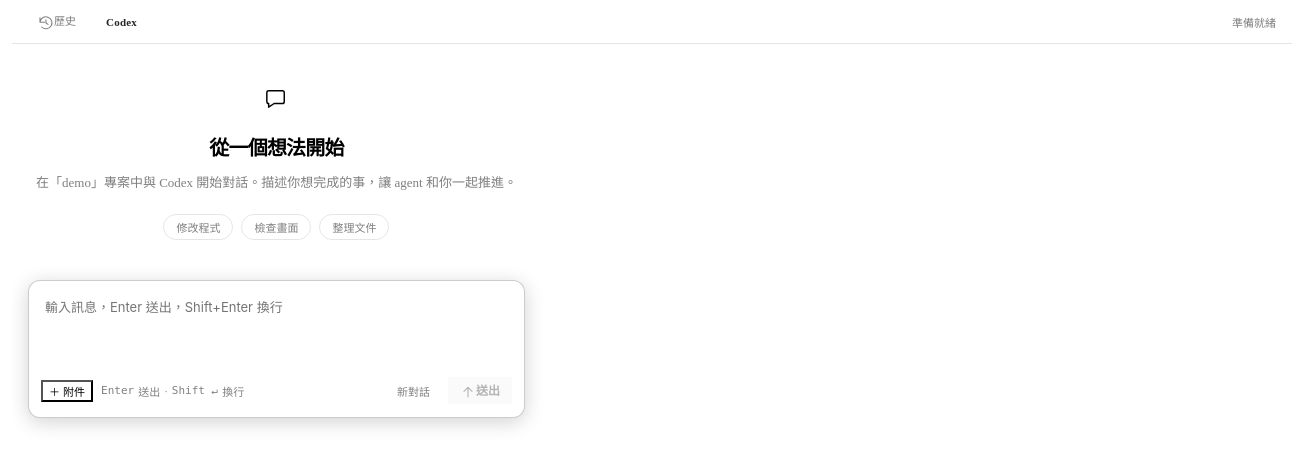
窄欄歷史按需開啟，開啟時內容 inert，Escape 恢復焦點
Click the button "歷史". click: (57, 22)
box: [28, 6, 86, 37]
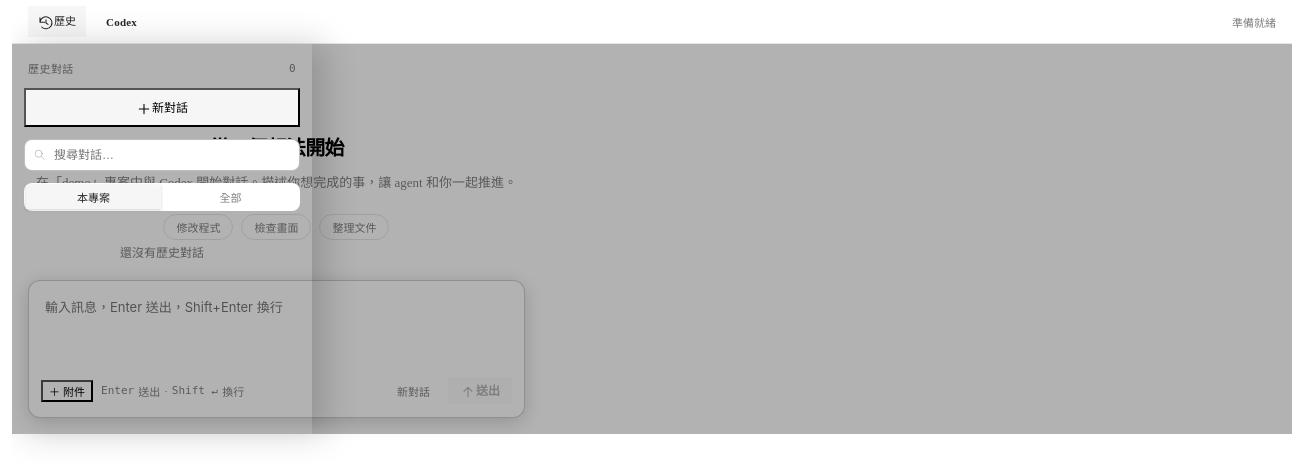
Check: the element that starts with "從一個想法開始" has attribute inert, box [12, 44, 541, 434]
Press Escape in the search field named "搜尋歷史對話", box [54, 140, 291, 170]
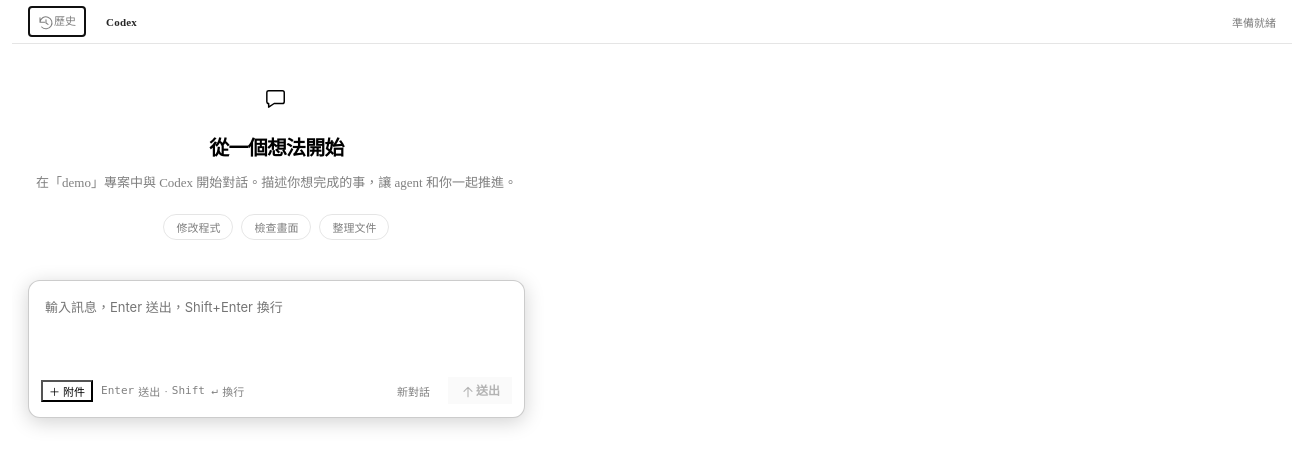
Check: the button "歷史" is collapsed, box [28, 6, 86, 37]
